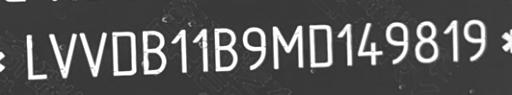letter: (270, 24, 304, 73), (46, 32, 78, 79), (355, 20, 385, 67), (111, 28, 139, 77), (80, 30, 108, 79), (307, 22, 335, 69), (140, 29, 168, 76), (24, 31, 50, 80), (382, 20, 410, 65), (413, 18, 439, 65), (212, 26, 238, 73), (461, 17, 487, 62), (241, 26, 267, 71), (190, 24, 210, 75), (442, 19, 462, 66), (170, 27, 188, 76), (336, 20, 354, 67)
